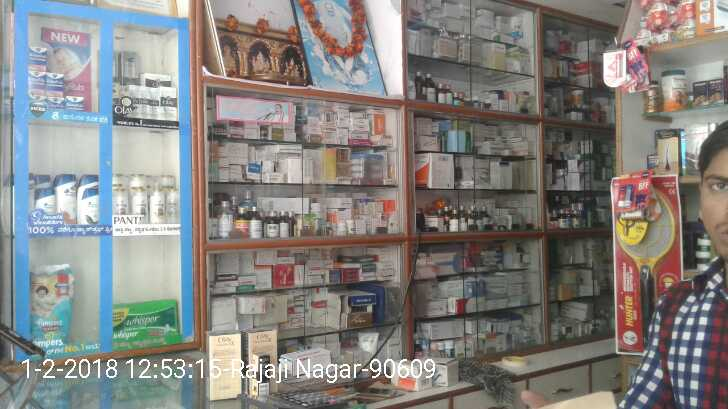beauty: (60, 174, 78, 223), (129, 187, 149, 225), (78, 190, 101, 223), (158, 87, 180, 121), (33, 187, 54, 220), (148, 187, 163, 224), (165, 188, 179, 224), (137, 84, 150, 120), (150, 85, 160, 125)
pharmacy: (27, 269, 73, 351), (108, 298, 183, 344), (28, 41, 46, 70), (25, 72, 45, 94), (63, 95, 88, 112), (45, 91, 64, 112), (47, 66, 63, 89)
